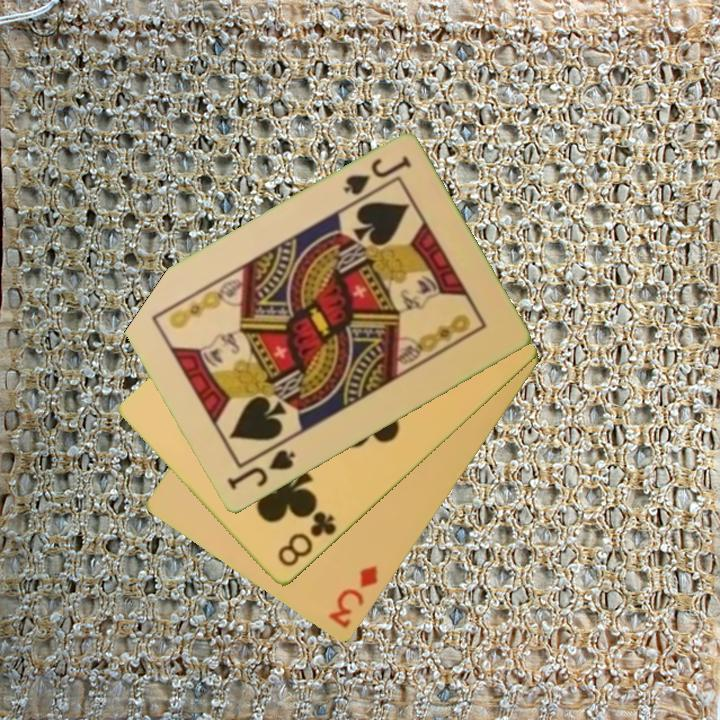3d: (324, 562, 381, 632)
8c: (273, 508, 339, 570)
Js: (223, 446, 299, 494), (339, 153, 414, 199)
